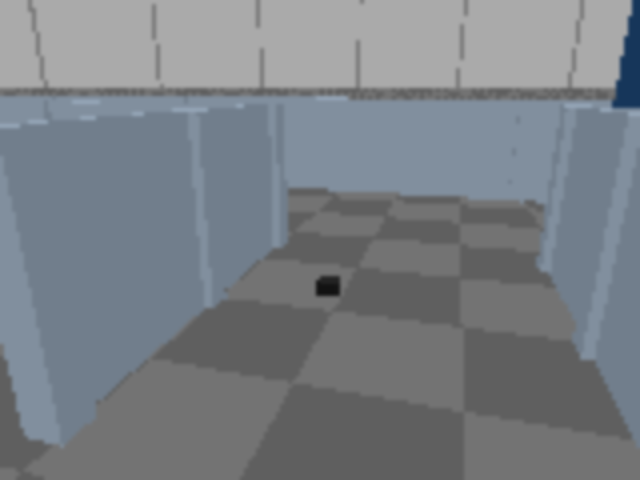person: (592, 0, 638, 260)
puck: (320, 276, 337, 297)
